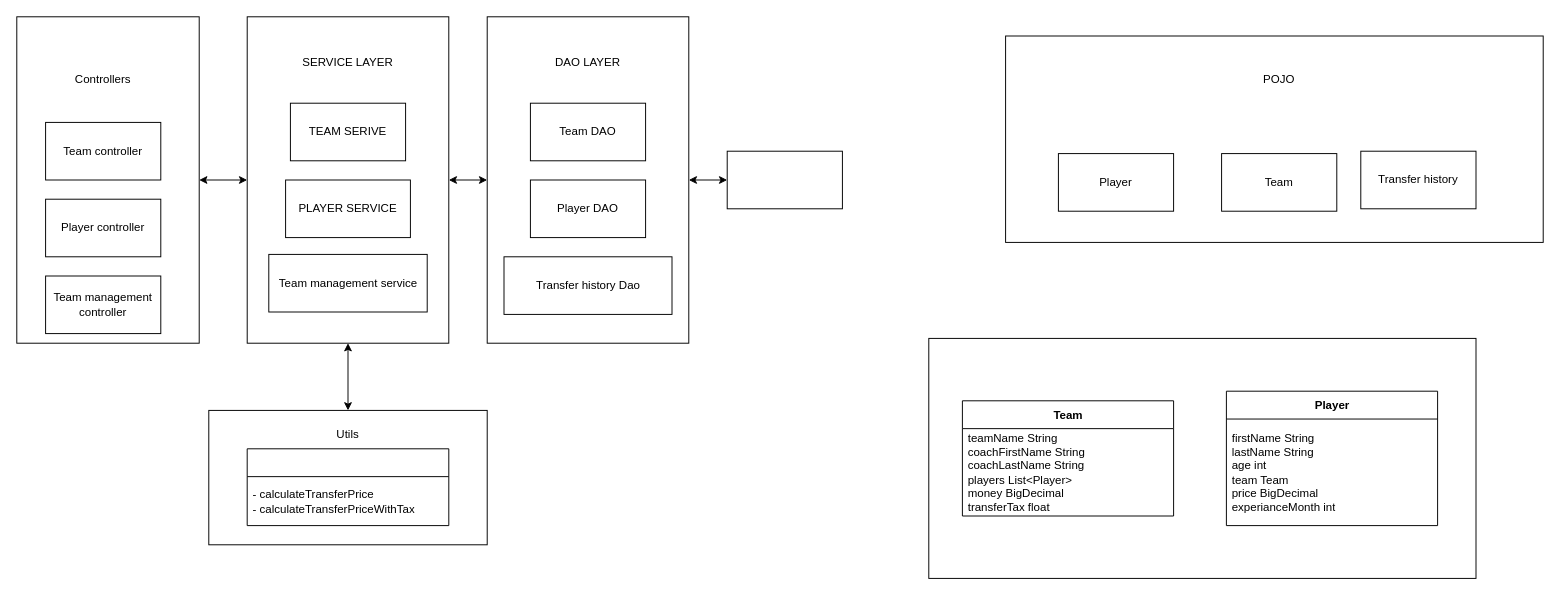
The diagram is 1560 pixels wide and 595 high, and some of its shapes have lost their labels. Here are the shapes that lost their labels. From the top down, the box of each, then its label:
(726, 150, 842, 209): Database
(246, 448, 449, 526): Football management util
